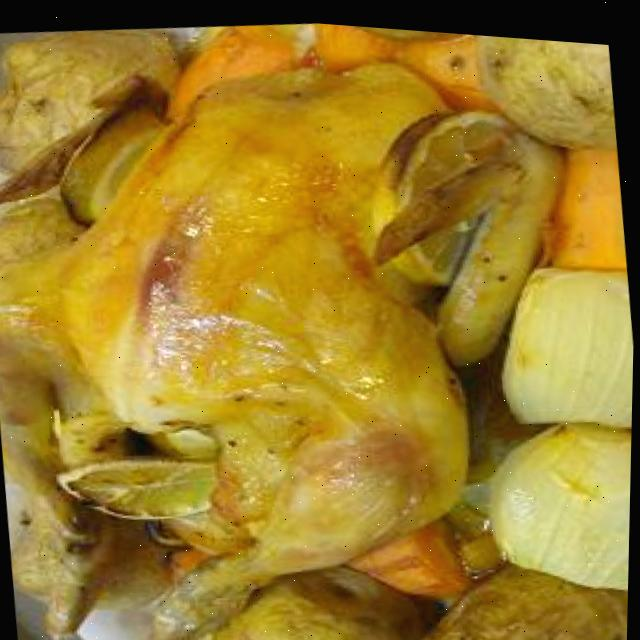鸡肉料理 含炸鸡: (0, 23, 510, 640)
